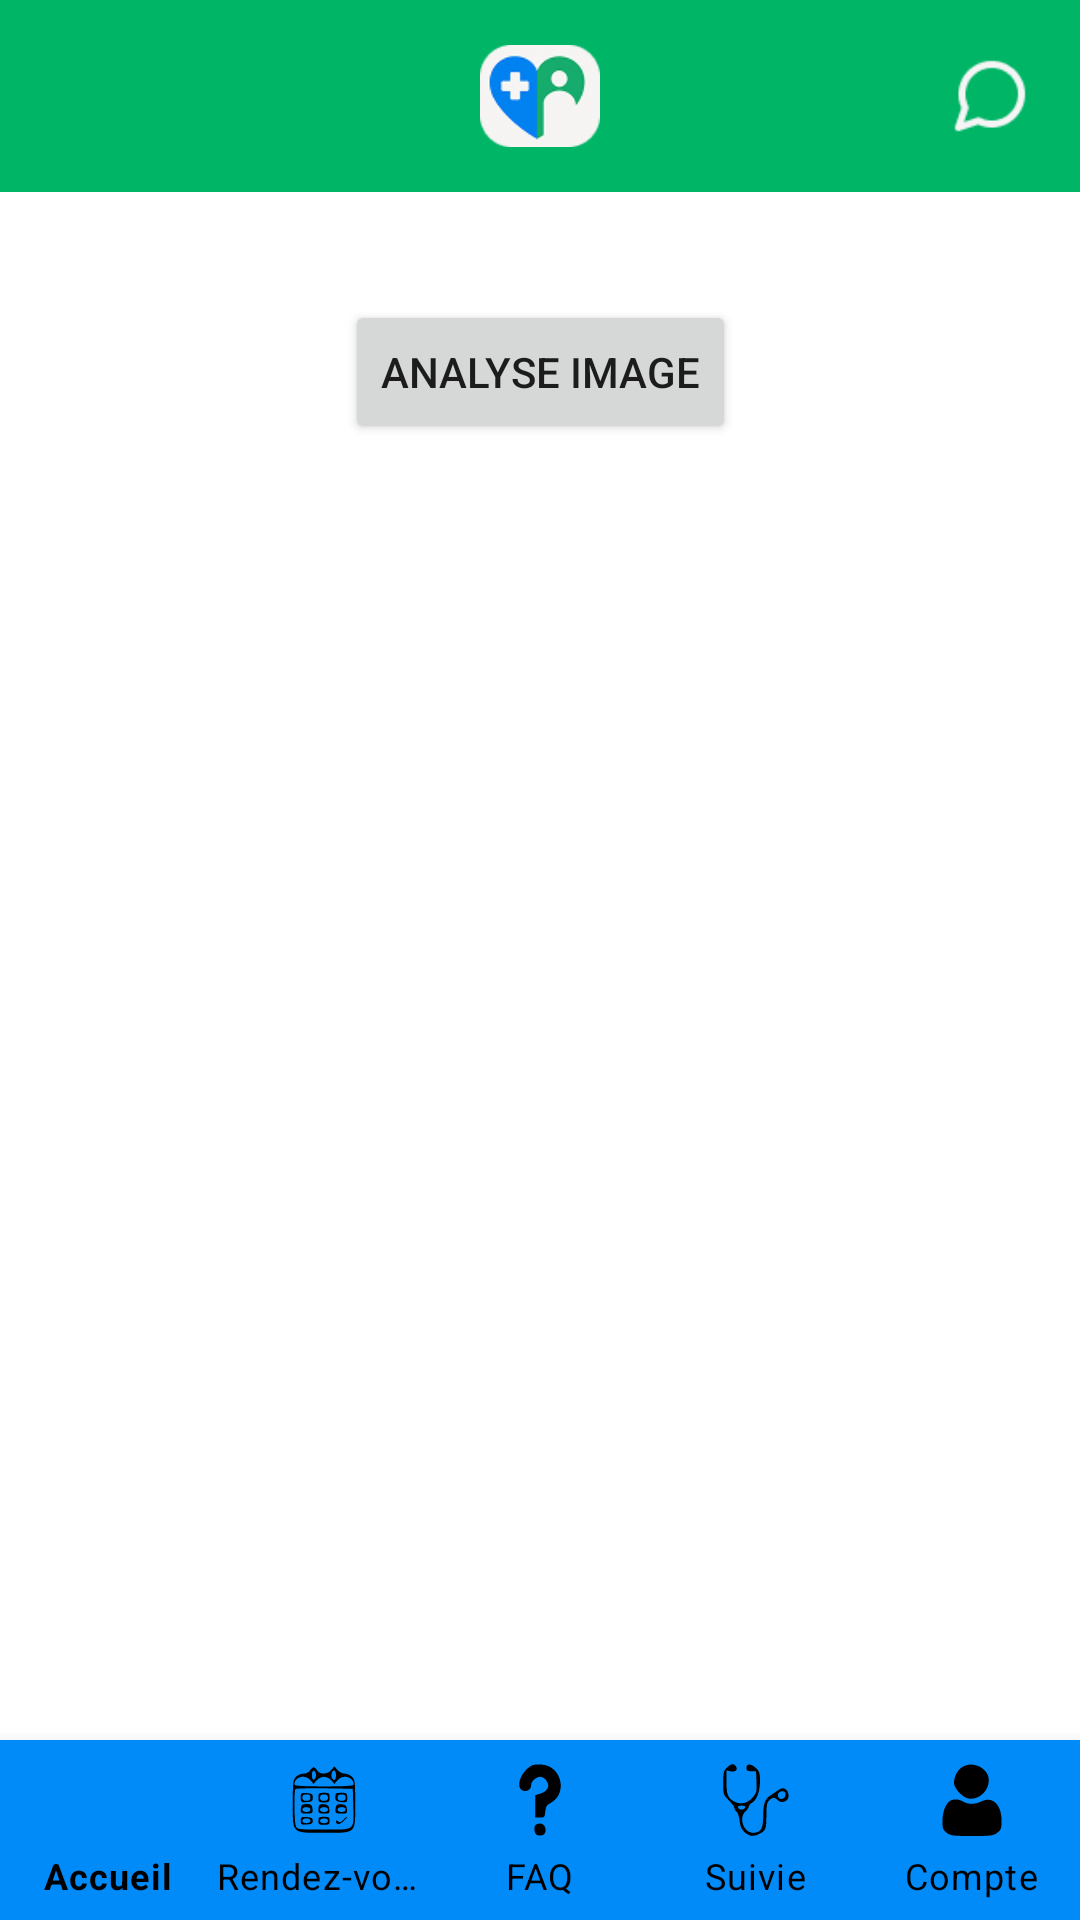

Screen size 1080x1920. Icon name, then its center in pixels as point (x, y):
chat: point (990, 96)
